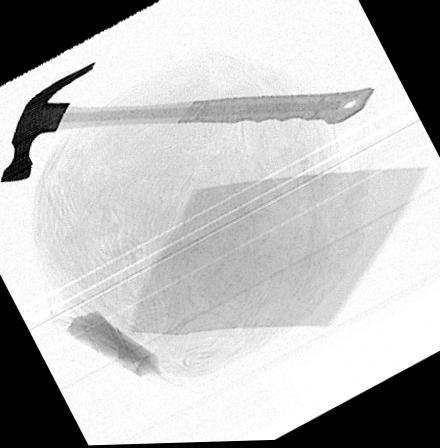Hammer: (0, 61, 375, 185)
